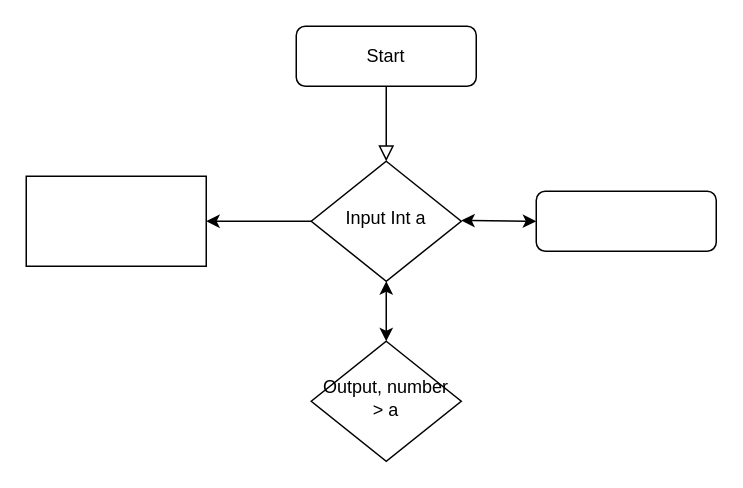
Image size: 743x488. Some labels were removed from this diagram. Each missing label, with the centre of its shape:
Output , number < a: the point at 625,220
Output, your a correct: the point at 115,220
